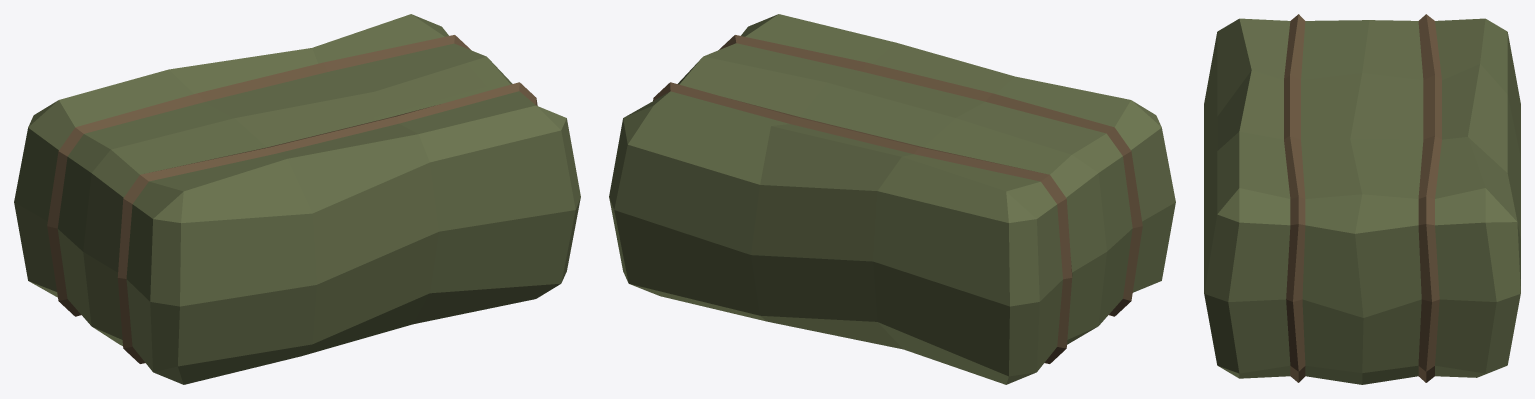
The model's file is SM_Prop_Hay_Bale_Square_03_Green.glb.
3 renders of one model, left to right at view 1: azimuth 30°, elevation 25°; view 2: azimuth 150°, elevation 25°; view 3: azimuth 270°, elevation 25°, orthographic.
Visible parts, largest first — view 1: SM_Prop_Hay_Bale_Square_03_Green; view 2: SM_Prop_Hay_Bale_Square_03_Green; view 3: SM_Prop_Hay_Bale_Square_03_Green.
Part boxes in pixels (bbox=[...]): SM_Prop_Hay_Bale_Square_03_Green: bbox=[14, 14, 580, 384]; SM_Prop_Hay_Bale_Square_03_Green: bbox=[609, 14, 1175, 384]; SM_Prop_Hay_Bale_Square_03_Green: bbox=[1204, 14, 1520, 384].
Size of the model in its own units: 1.61 by 0.7179 by 1.04.
Materials: 1 (1 with a texture image).
